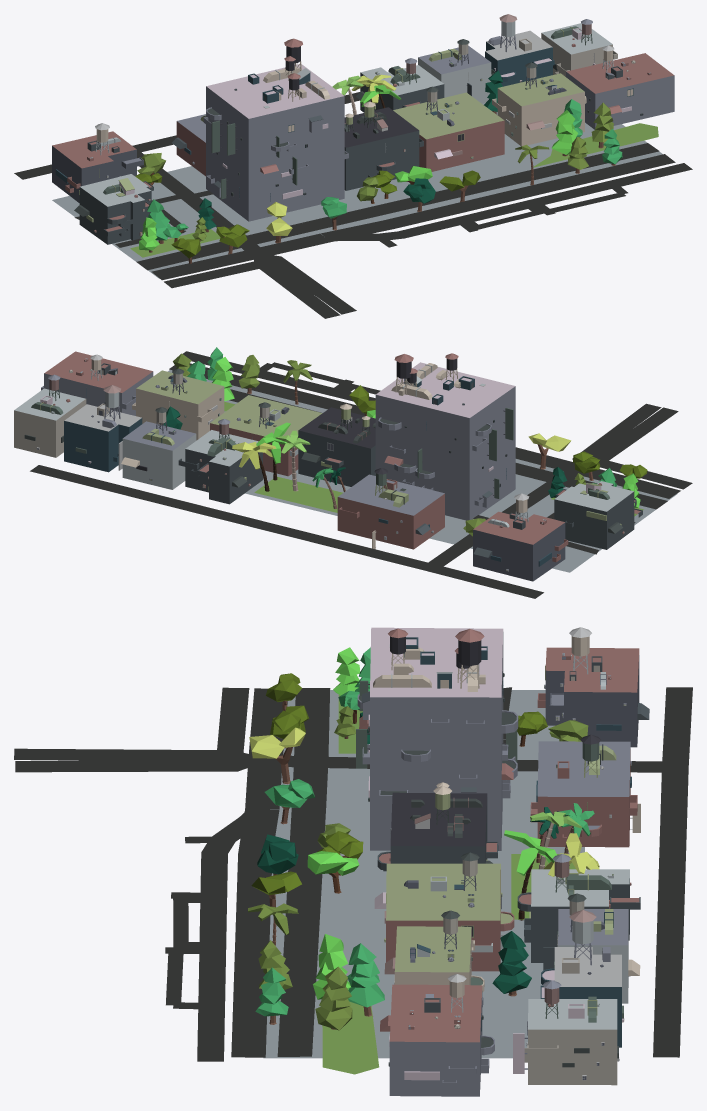
The model's file is SJ_Env2.fbx.
The picture shows the model from 3 angles, top to bottom: view 1: azimuth 30°, elevation 25°; view 2: azimuth 150°, elevation 25°; view 3: azimuth 270°, elevation 25°; orthographic projection. The views are drawn at different scales.
Visible parts, largest first — view 1: SJ_Env2; view 2: SJ_Env2; view 3: SJ_Env2.
Boxes of the visible parts, x1,y1,x2,y2 form: SJ_Env2: [14, 14, 692, 318]; SJ_Env2: [14, 347, 692, 598]; SJ_Env2: [14, 627, 692, 1096].
Size of the model in its own units: 9080 by 2253 by 6229.
